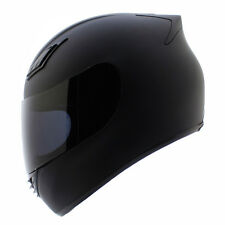helmet: (13, 19, 209, 203)
